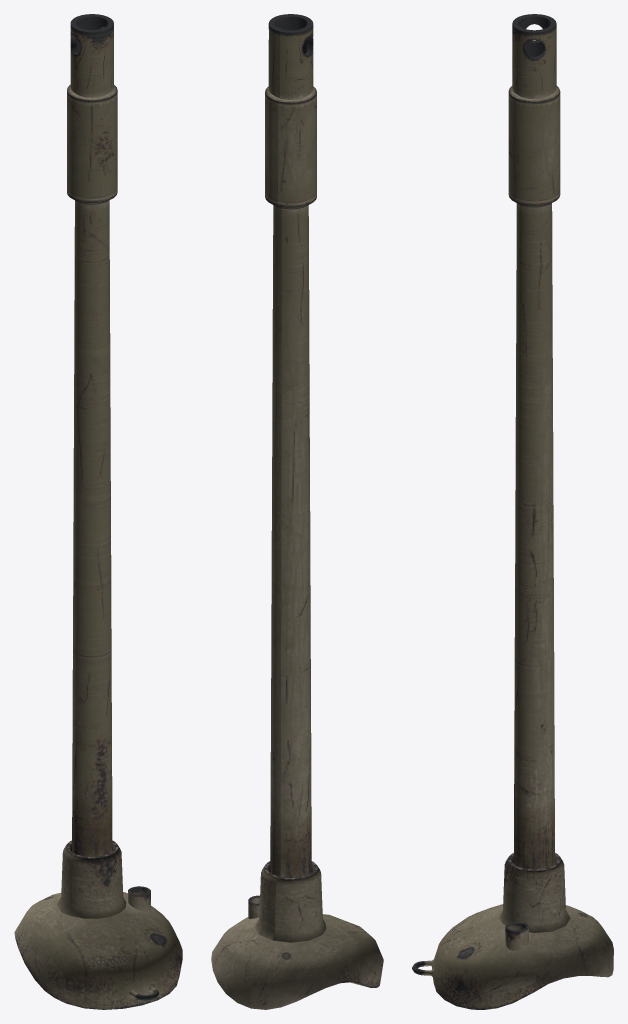
Rendered from Gun_01.glb.
3 renders of one model, left to right at view 1: azimuth 30°, elevation 25°; view 2: azimuth 150°, elevation 25°; view 3: azimuth 270°, elevation 25°, orthographic. The views are drawn at different scales.
Visible parts, largest first — view 1: set_0_group_0; view 2: set_0_group_0; view 3: set_0_group_0.
Boxes of the visible parts, x1,y1,x2,y2 form: set_0_group_0: (14,14,182,1009); set_0_group_0: (211,14,383,1009); set_0_group_0: (412,14,613,1009).
Size of the model in its own units: 0.889 by 5.83 by 1.11.
1 material, 1 textured.
